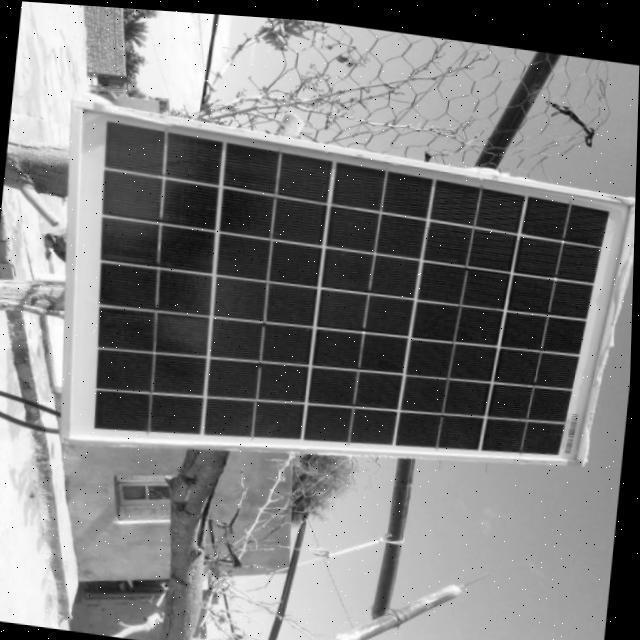Normal Solar Panel: (48, 102, 638, 504)
